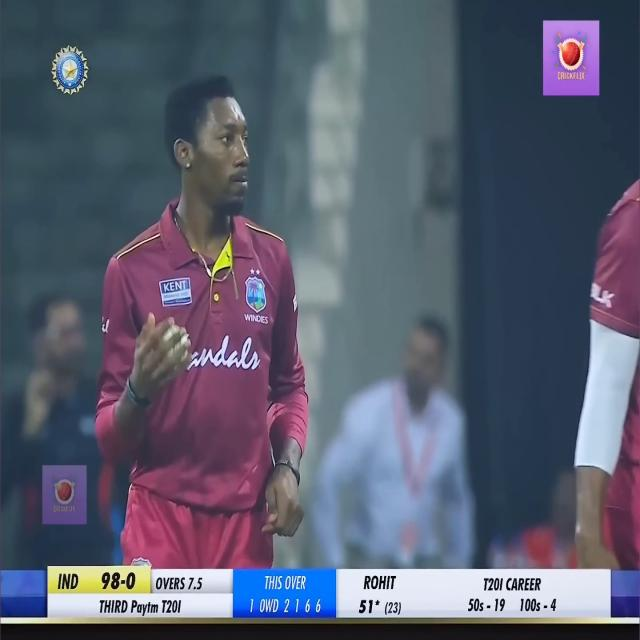fully_visible: (130, 594, 159, 619)
